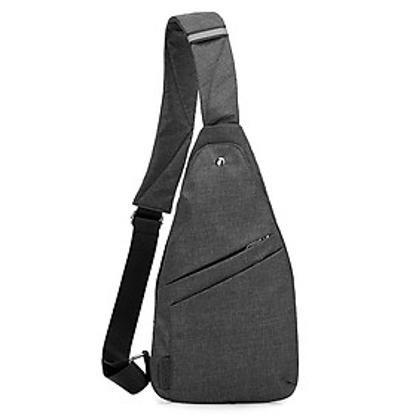not trash: (104, 11, 302, 405)
